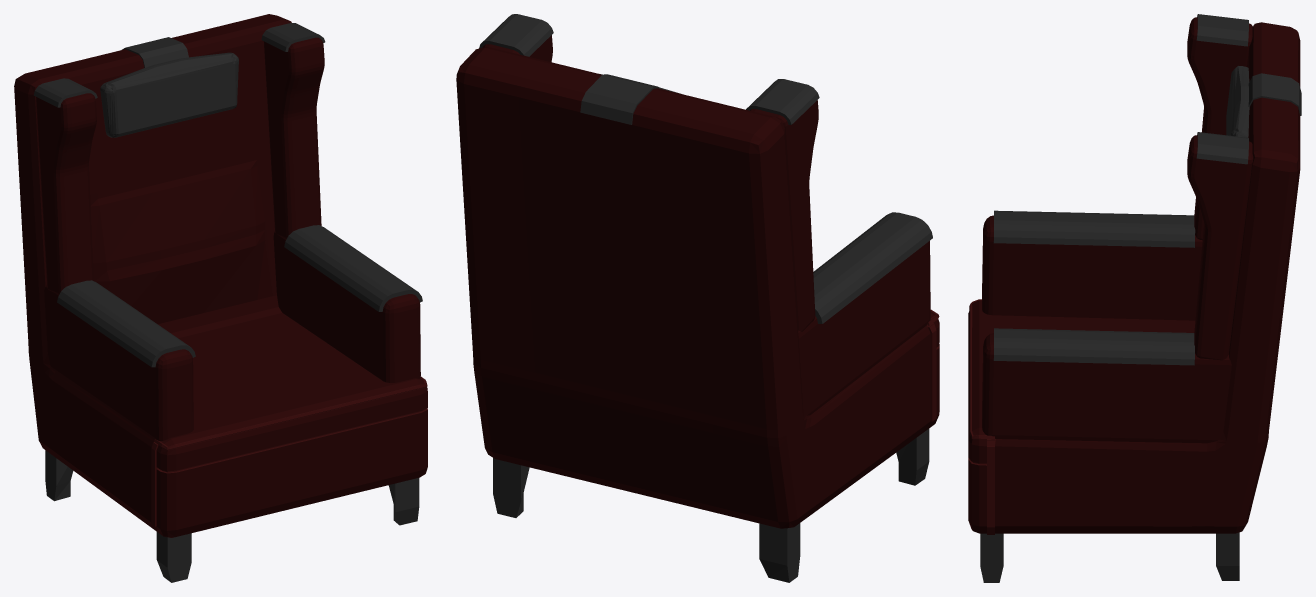
Rendered from Armchair.fbx.
3 renders of one model, left to right at view 1: azimuth 30°, elevation 25°; view 2: azimuth 150°, elevation 25°; view 3: azimuth 270°, elevation 25°, orthographic. The views are drawn at different scales.
Parts seen in each view (by area): view 1: Armchair; view 2: Armchair; view 3: Armchair.
Part boxes in pixels (<box>): Armchair: <box>14,14,427,582</box>; Armchair: <box>456,14,939,582</box>; Armchair: <box>968,14,1301,582</box>.
Size of the model in its own units: 0.9994 by 1.45 by 1.
